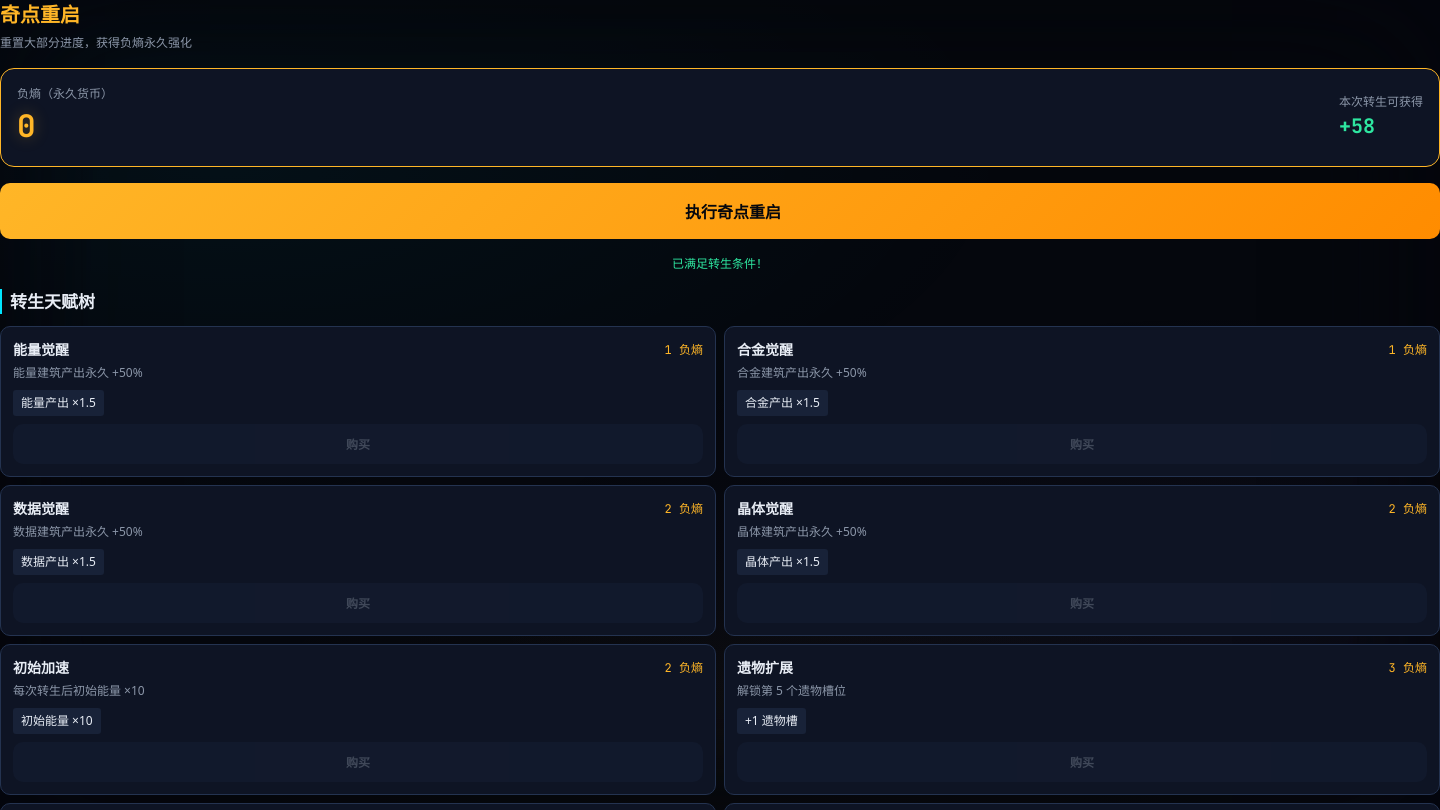
Test case: PrestigeView — 转生确认流程 › 点击执行奇点重启打开确认弹窗：重置与保留清单与转生行为一致
Click the button with class "btn-transcend" at (720,210), box [0,182,1439,238]
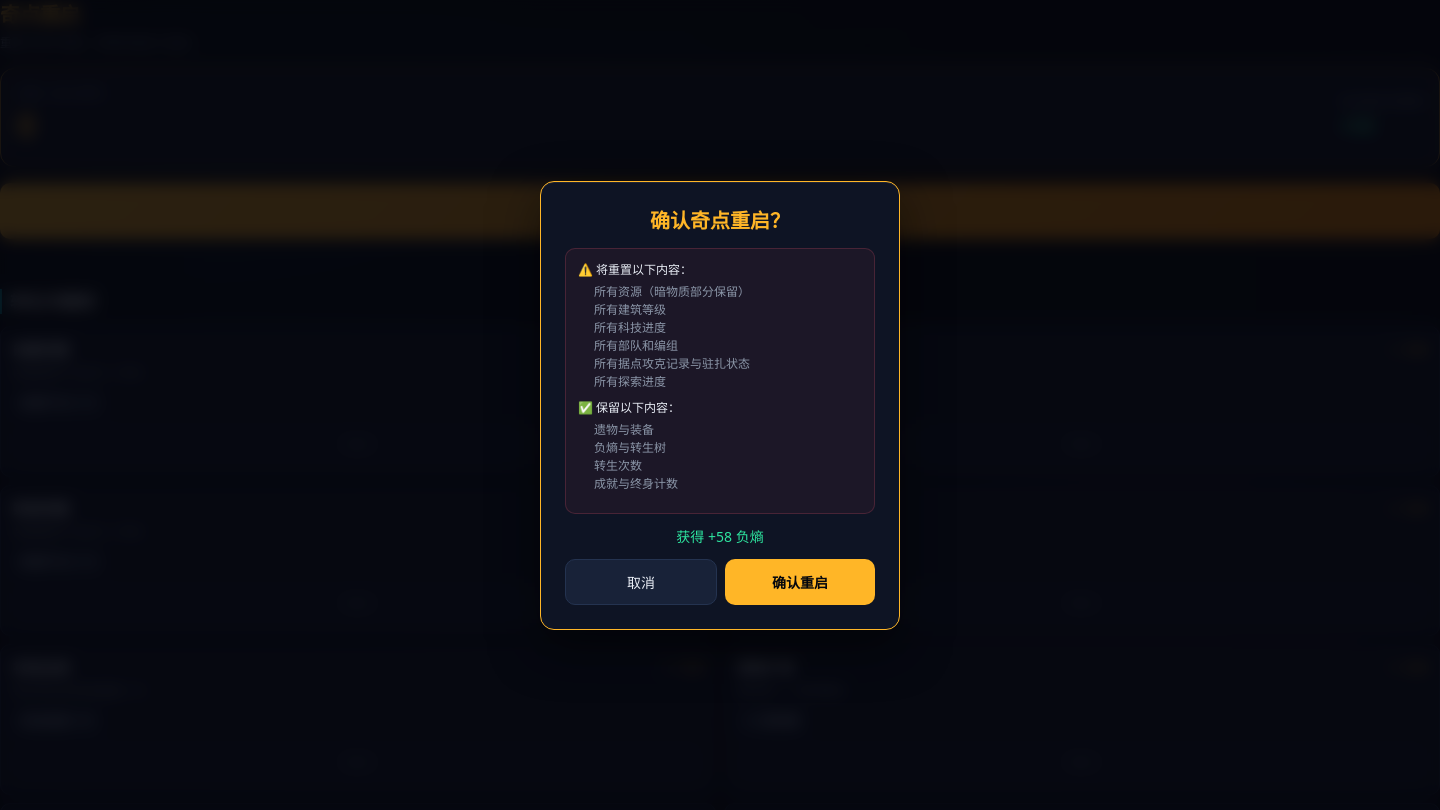
Expected: the element with class "modal-overlay" is shown
Expected: the element with class "modal-overlay" shows "所有据点攻克记录与驻扎状态", [594,354,750,372]
Expected: the element with class "modal-overlay" shows "成就与终身计数", [594,474,678,492]
